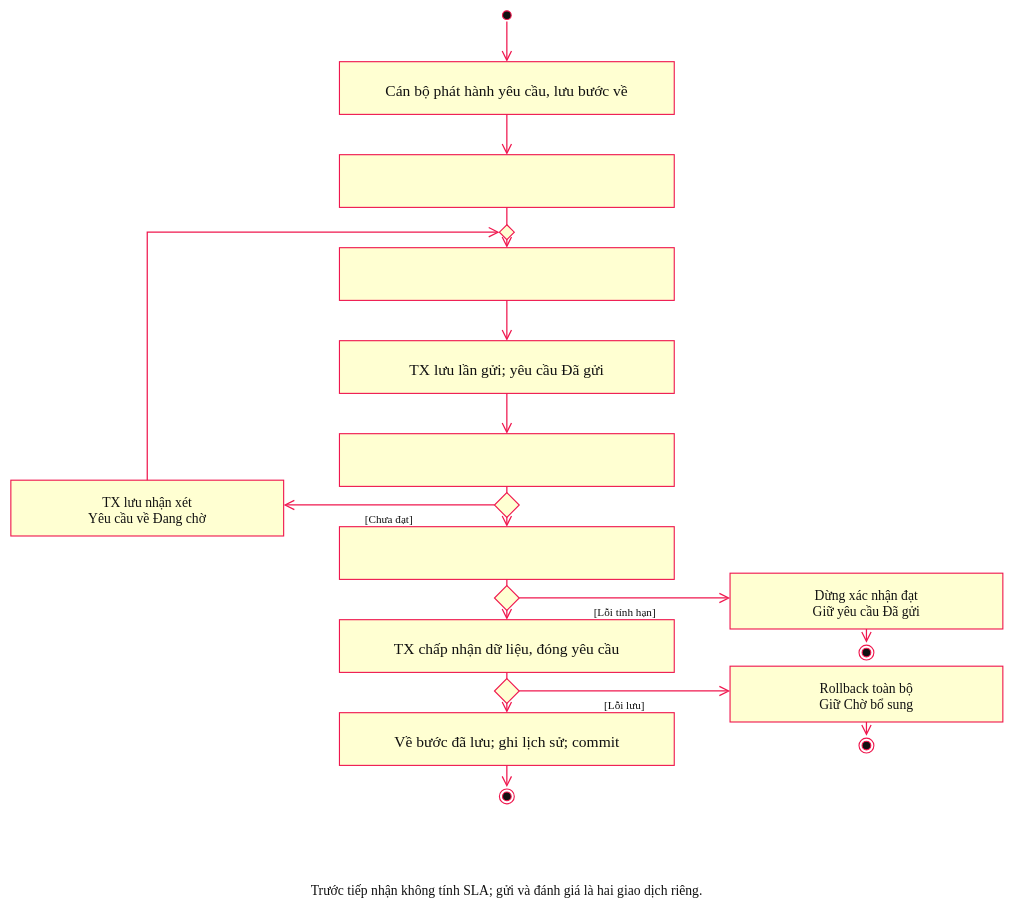
Some shapes in this 1014 by 910 pixel diagram are drawn without their labels. Each missing label, with the centre of its shape:
"Chủ hồ sơ gửi nội dung / tệp" goes at pixel 506 274.
"Cán bộ đánh giá và xác nhận" goes at pixel 506 460.
"Nếu sau tiếp nhận: tính hạn từ GuiLuc" goes at pixel 506 553.
"TX chuyển hồ sơ Chờ bổ sung" goes at pixel 506 181.
